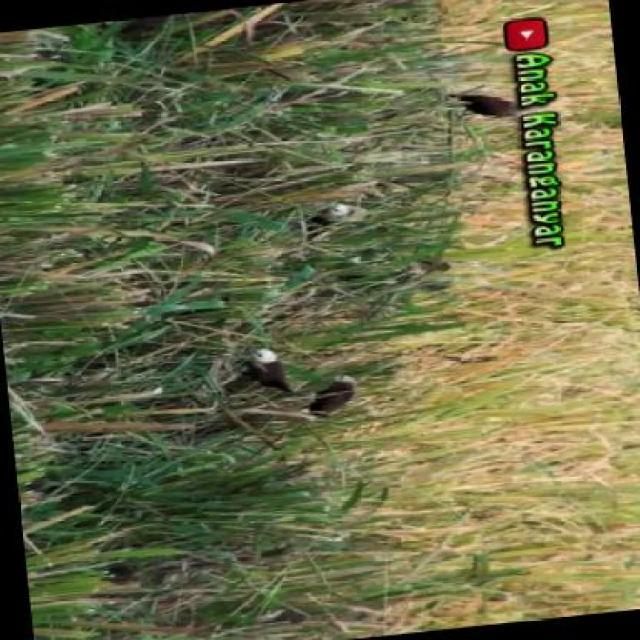Bird: (233, 337, 296, 402), (450, 82, 521, 137), (318, 365, 367, 429)
